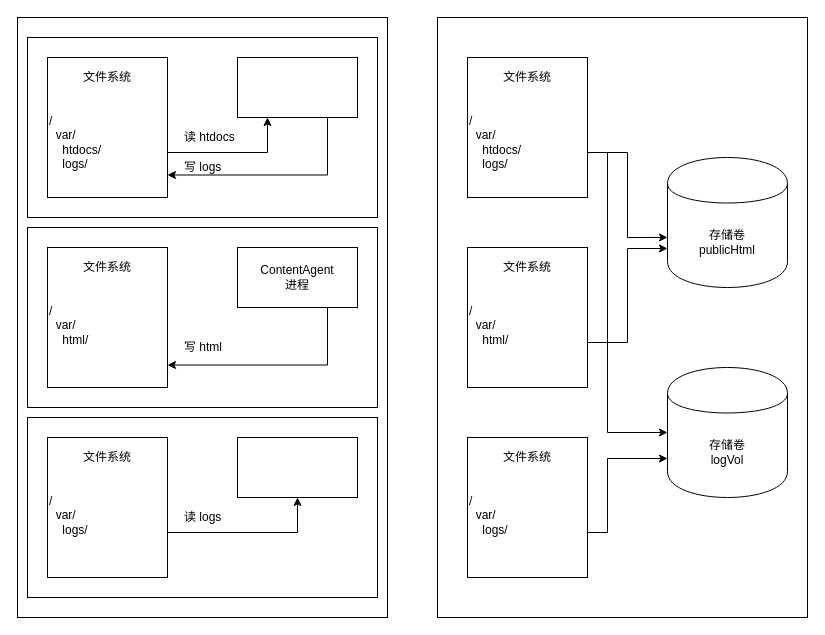
Some shapes in this 825 by 635 pixel diagram are drawn without their labels. Here are the shapes that lost their labels. From the top down, the centre of each, then its label:
point (297, 87): WebServer 进程
point (297, 467): LogRotator 进程
